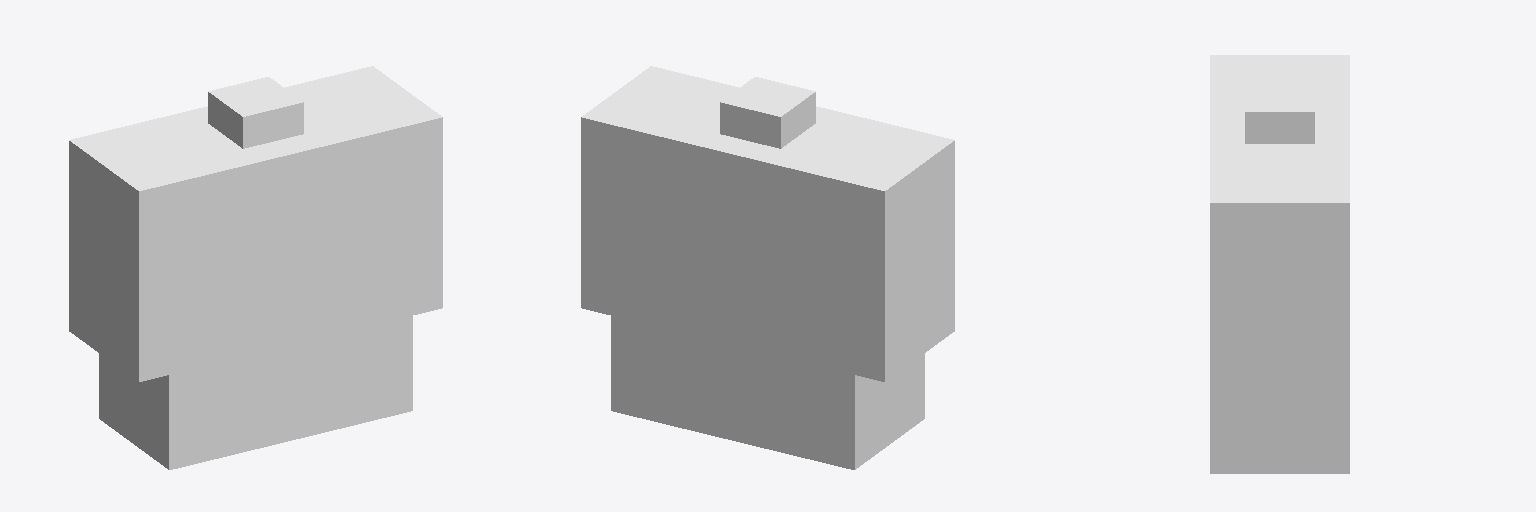
File: male-10.obj
3 renders of one model, left to right at view 1: azimuth 30°, elevation 25°; view 2: azimuth 150°, elevation 25°; view 3: azimuth 270°, elevation 25°, orthographic.
Parts seen in each view (by area): view 1: object 1; view 2: object 1; view 3: object 1.
Boxes of the visible parts, box(x1,y1,x2,y2) form: object 1: box(69, 66, 442, 469); object 1: box(581, 66, 954, 469); object 1: box(1210, 55, 1349, 473).
Bounding box in the file's own units: 1 × 1 × 0.4.